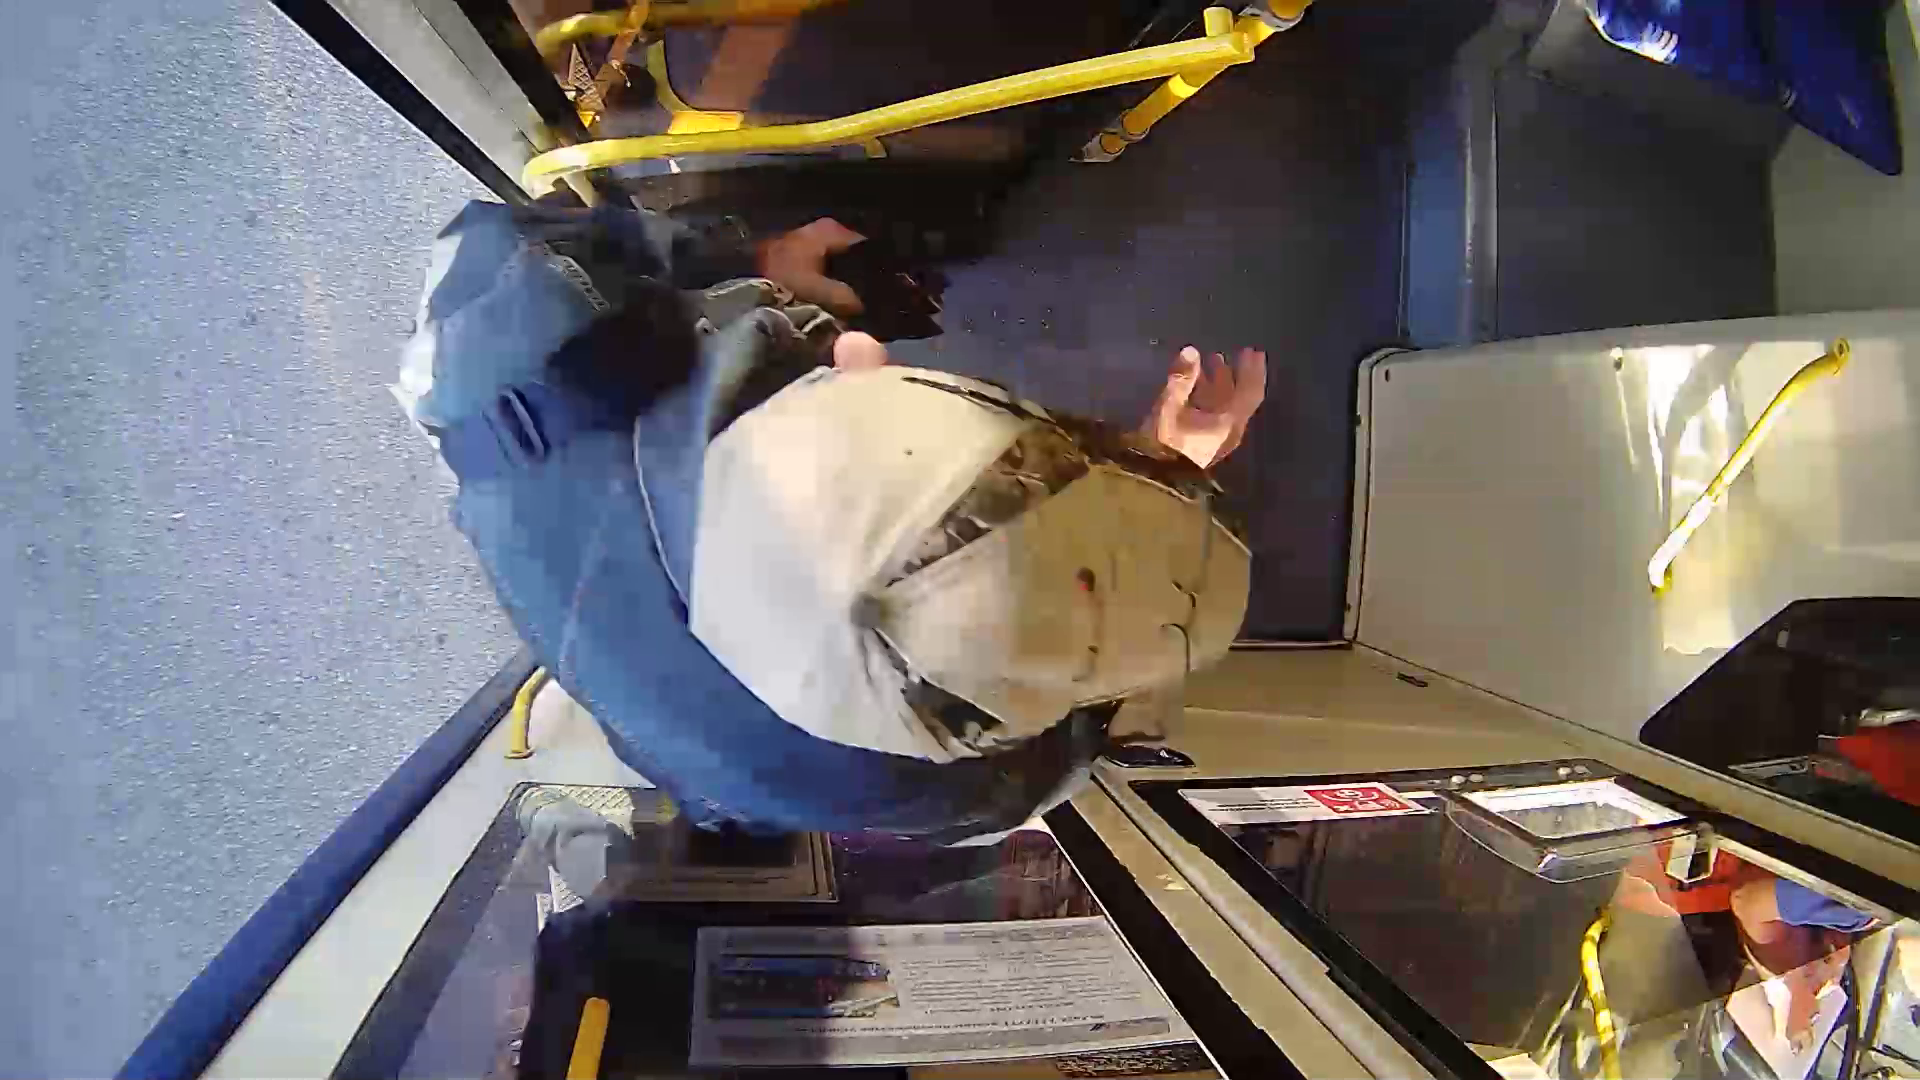person: (400, 176, 1337, 808)
